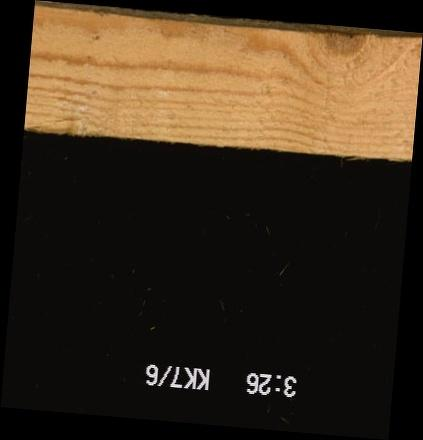edge_knot: (320, 30, 369, 70)
